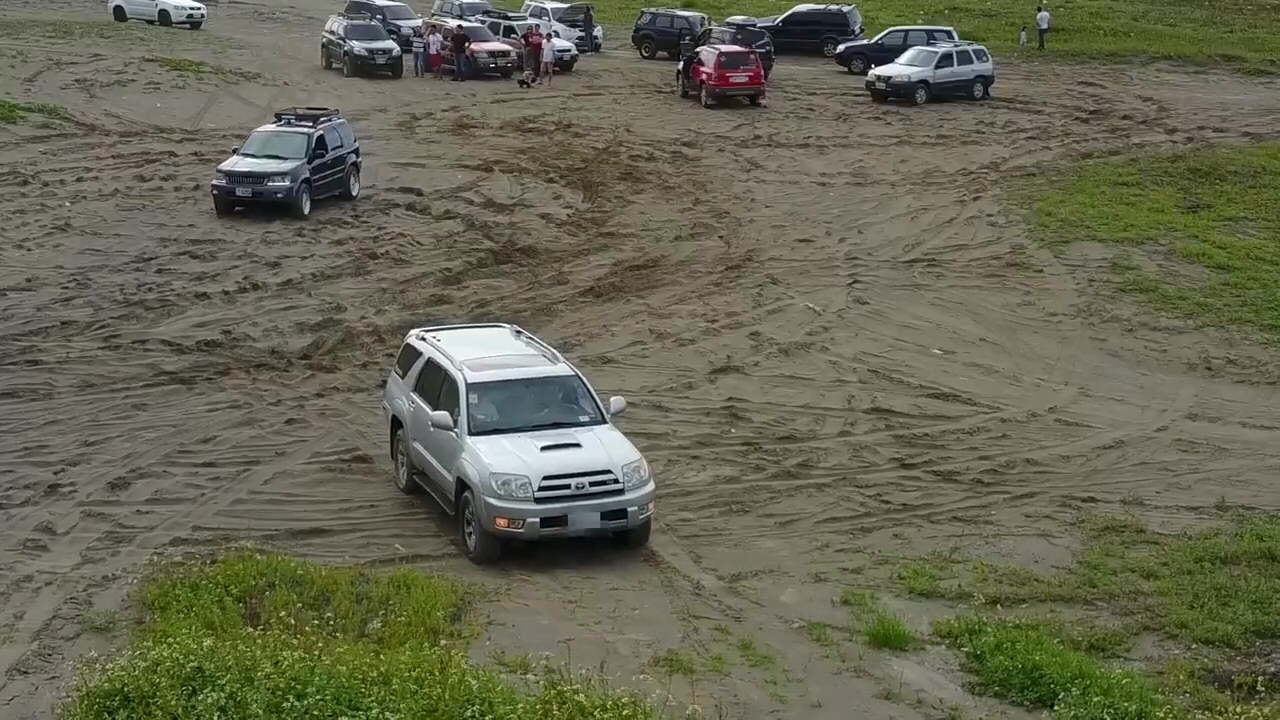araba: (378, 322, 656, 569), (209, 108, 364, 219), (868, 37, 994, 103), (753, 1, 872, 58), (676, 45, 773, 110), (316, 13, 406, 79), (476, 11, 578, 69), (835, 23, 967, 67), (632, 7, 724, 58), (514, 1, 601, 51), (689, 26, 775, 75), (344, 3, 428, 44), (101, 1, 208, 33)
insan: (454, 20, 477, 84), (425, 22, 447, 79), (411, 24, 428, 76), (545, 30, 560, 85), (1034, 5, 1053, 48), (582, 8, 597, 56), (519, 68, 538, 89), (1019, 22, 1029, 48)
